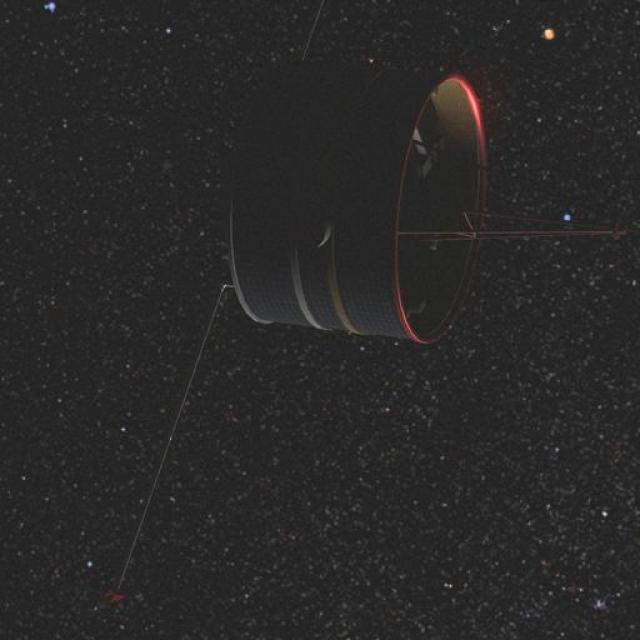double_start: (188, 47, 480, 390)
